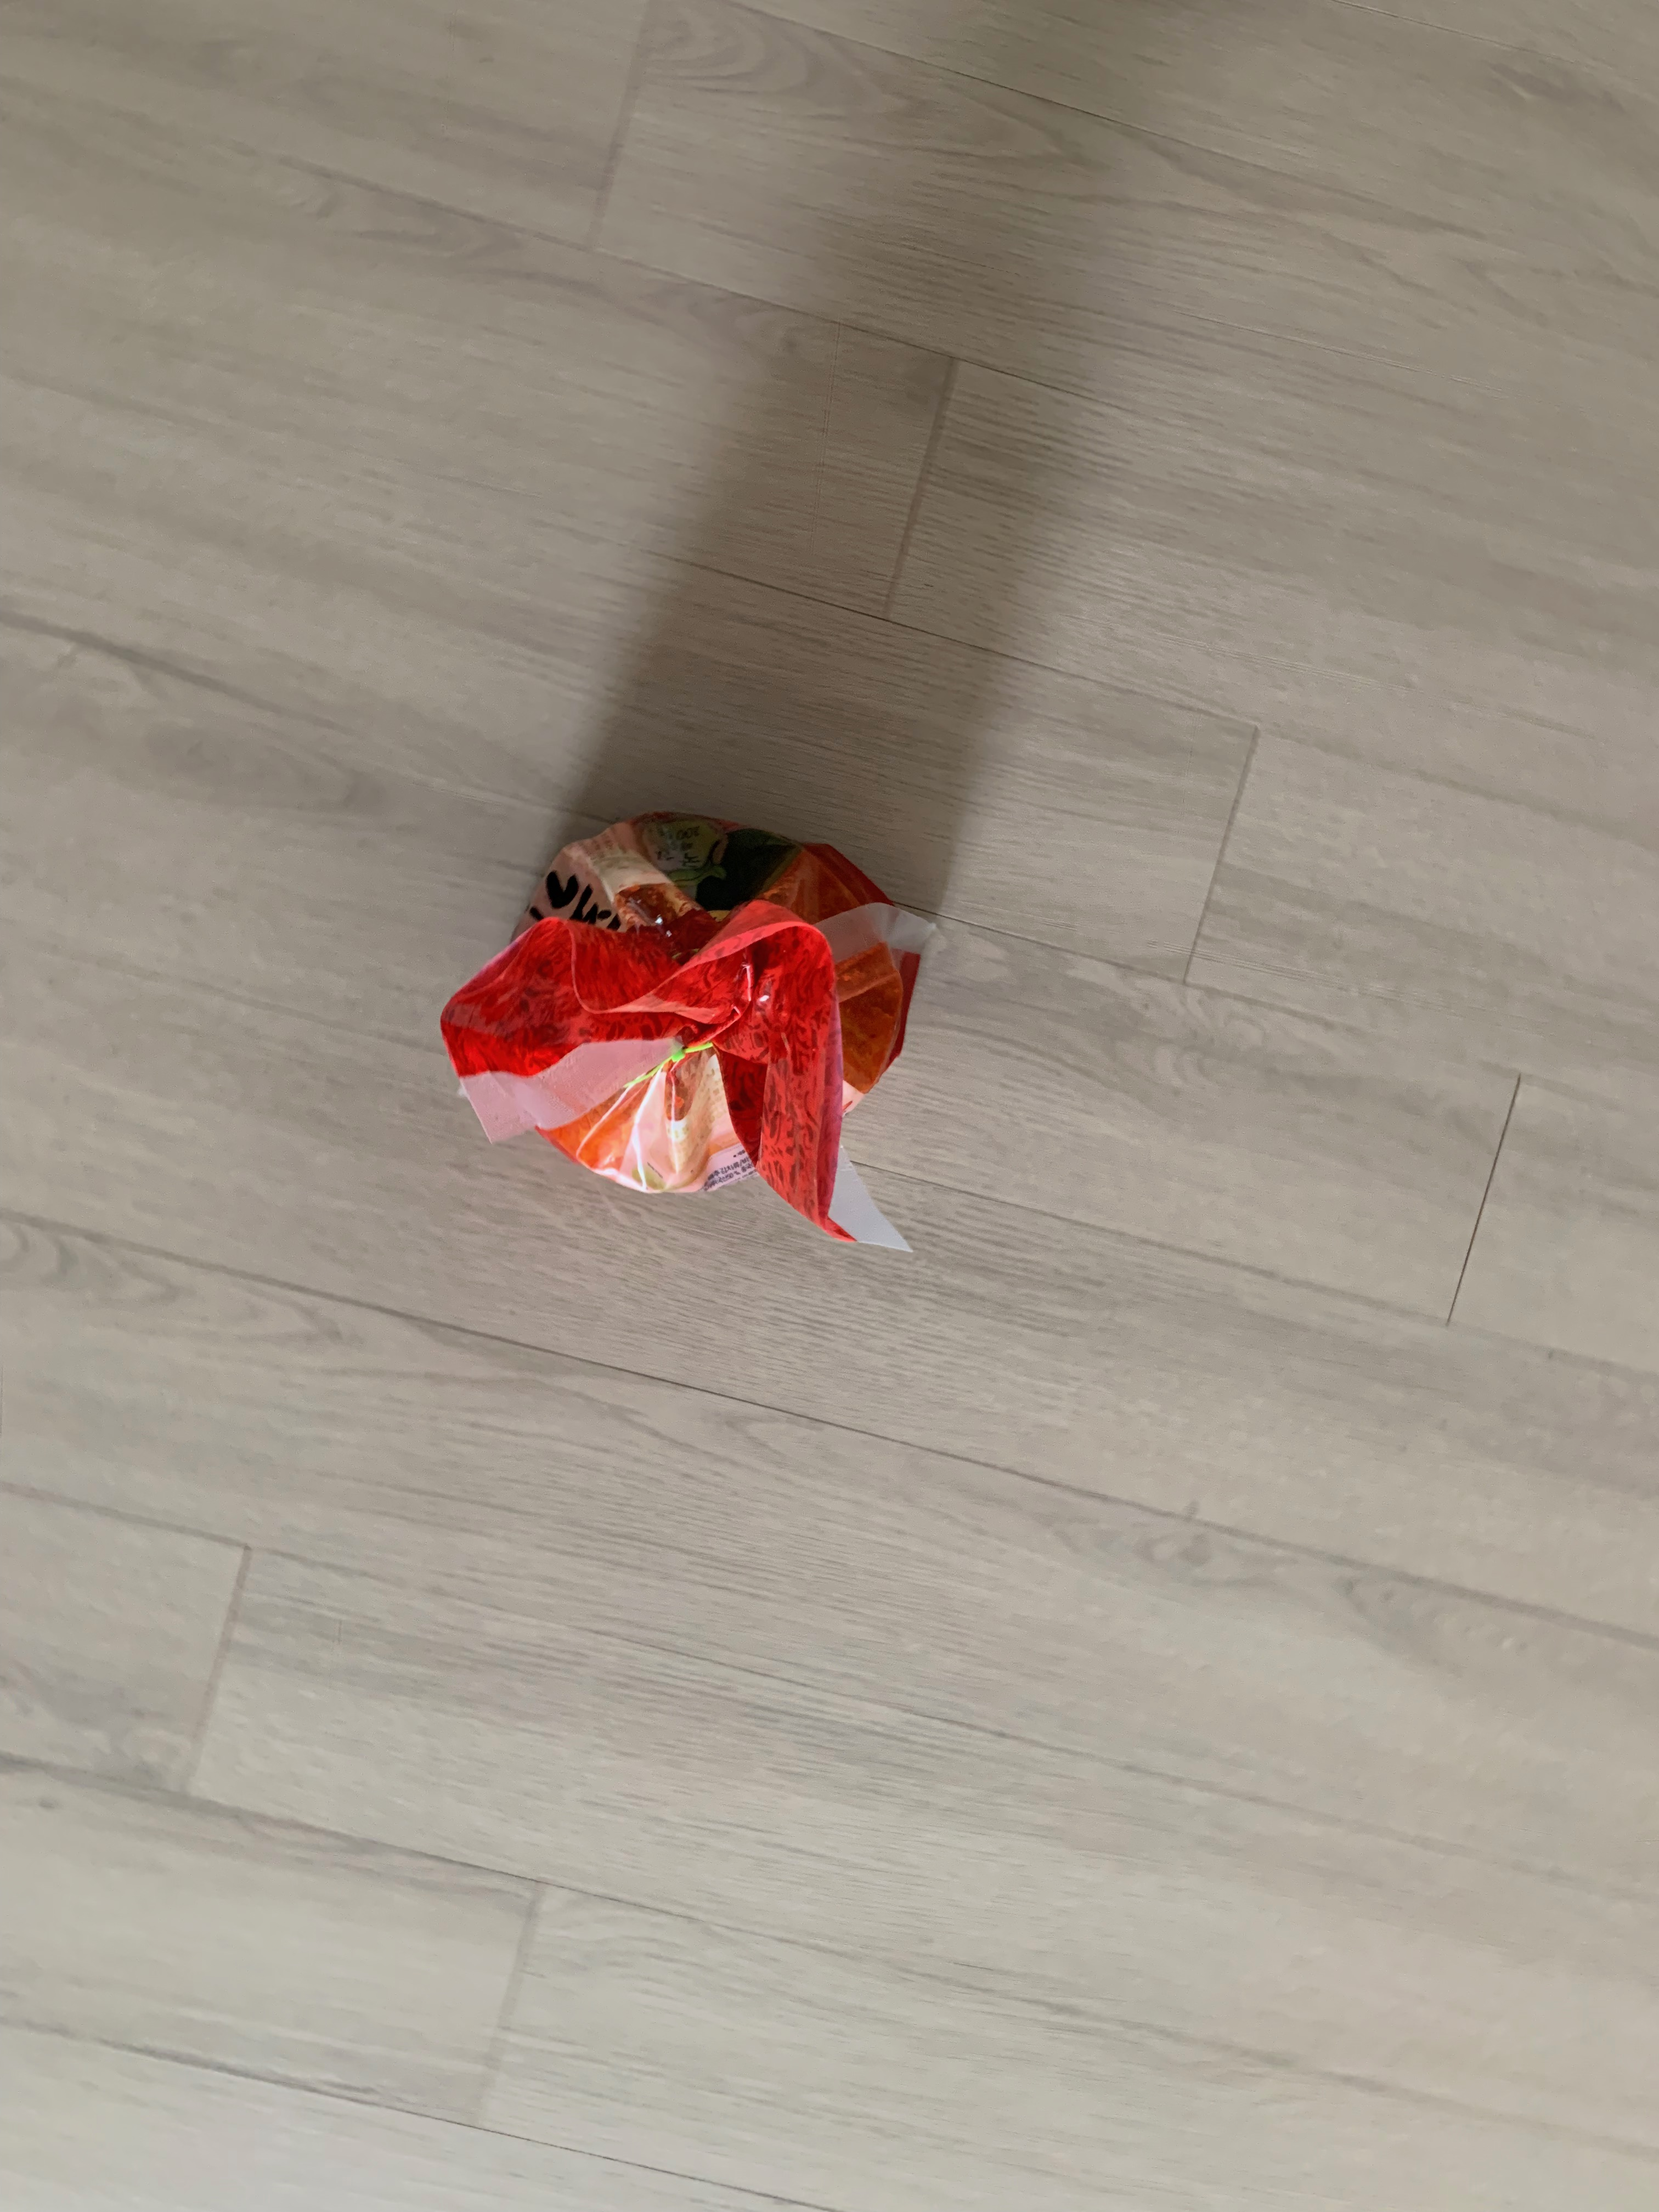kimchi: (443, 812, 920, 1211)
